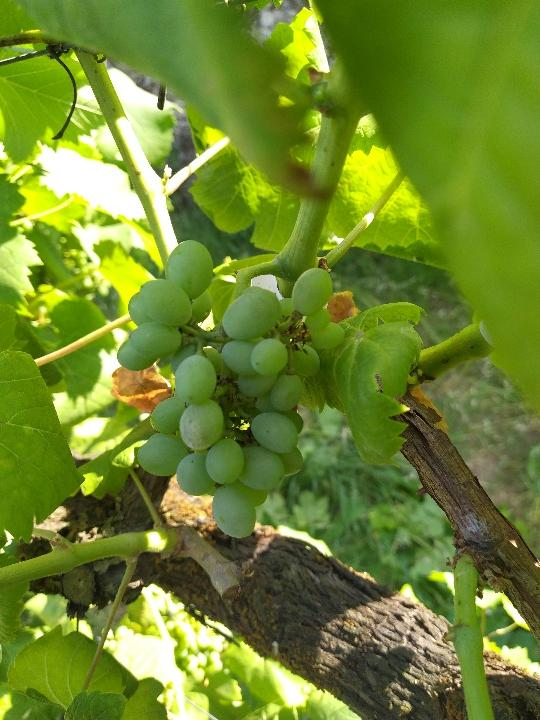grape: (113, 237, 352, 540)
